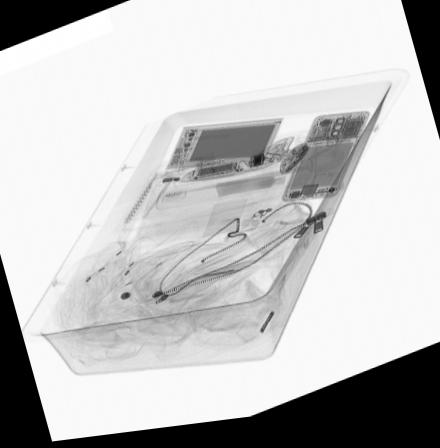Powerbank: (163, 126, 282, 175)
